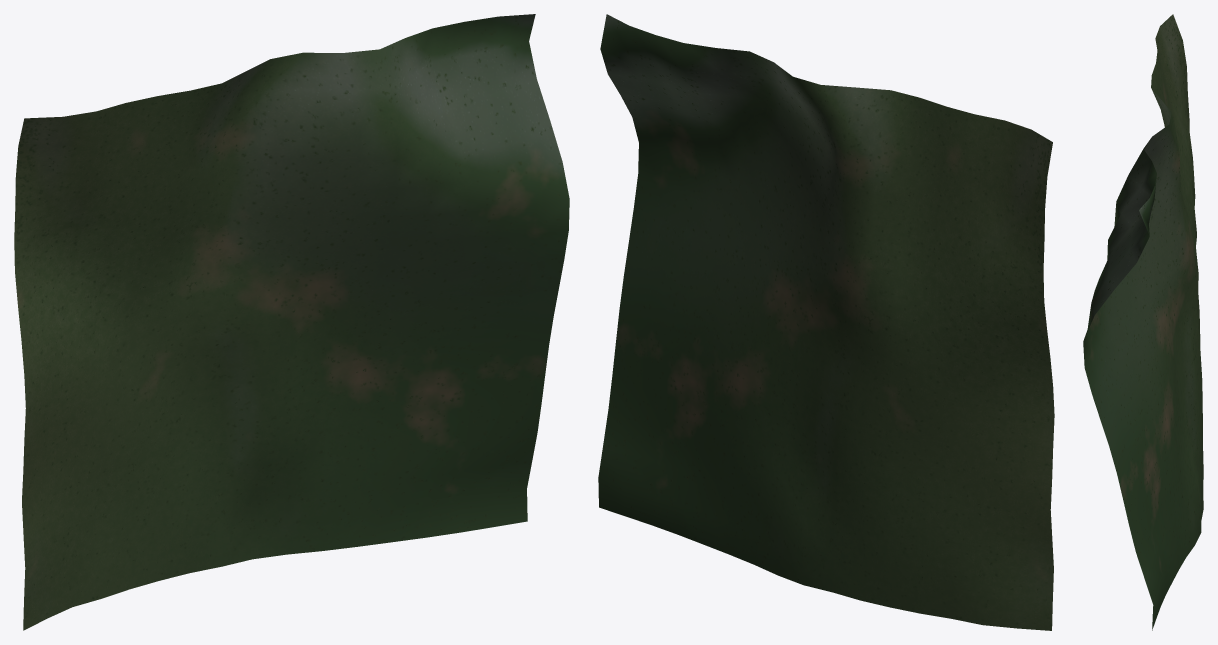
The model's file is terrain_far_05_02.obj.
The picture shows the model from 3 angles, left to right: view 1: azimuth 30°, elevation 25°; view 2: azimuth 150°, elevation 25°; view 3: azimuth 270°, elevation 25°; orthographic projection. The views are drawn at different scales.
Visible parts, largest first — view 1: terrain_far_05_02; view 2: terrain_far_05_02; view 3: terrain_far_05_02.
Part boxes in pixels (<box>): terrain_far_05_02: <box>14,14,569,630</box>; terrain_far_05_02: <box>598,14,1054,630</box>; terrain_far_05_02: <box>1083,14,1203,630</box>.
Bounding box in the file's own units: 640 × 640 × 166.
1 material, 1 textured.
